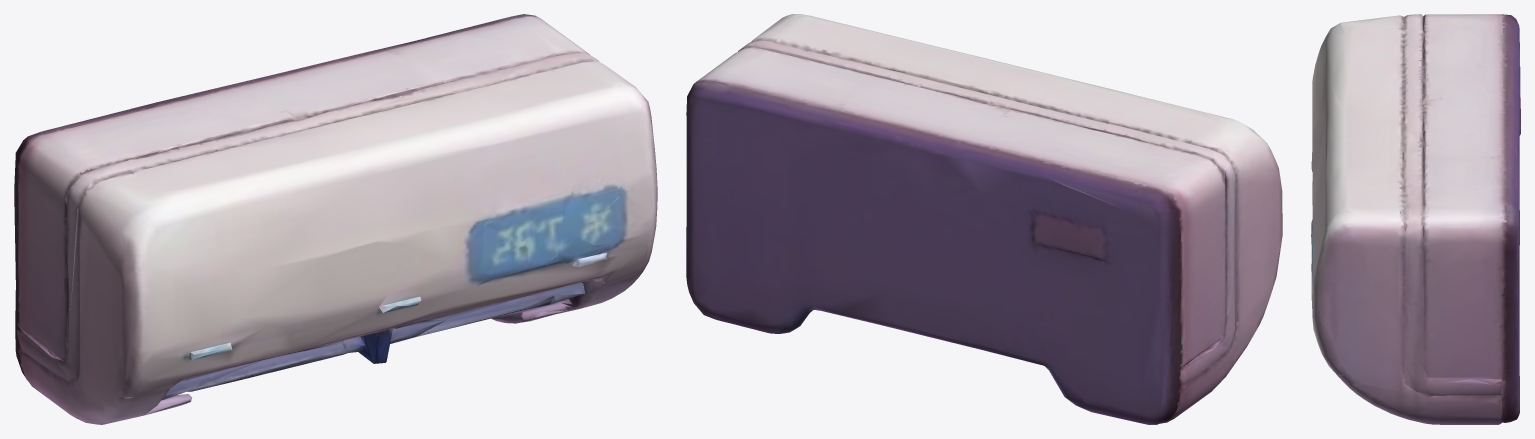
Rendered from appl14.glb.
3 renders of one model, left to right at view 1: azimuth 30°, elevation 25°; view 2: azimuth 150°, elevation 25°; view 3: azimuth 270°, elevation 25°, orthographic. The views are drawn at different scales.
Size of the model in its own units: 0.2706 by 0.1244 by 0.1103.
Materials: 1 (1 with a texture image).
